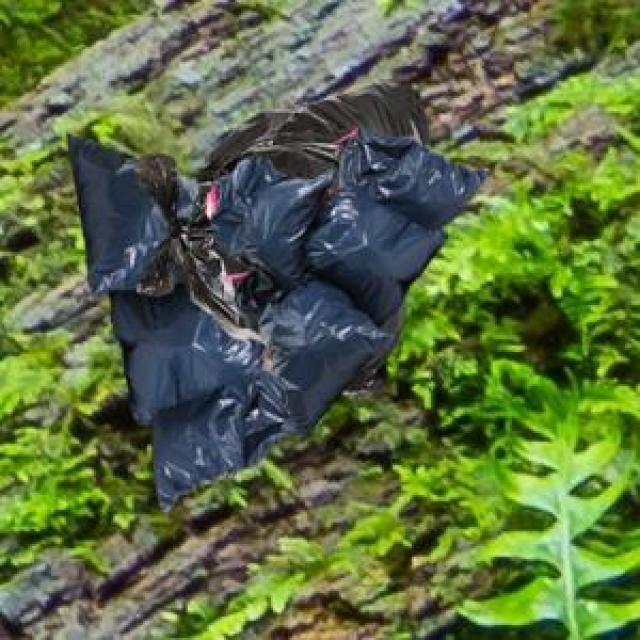miscellaneous trash: (130, 77, 427, 393), (203, 124, 486, 437), (65, 130, 292, 510)
